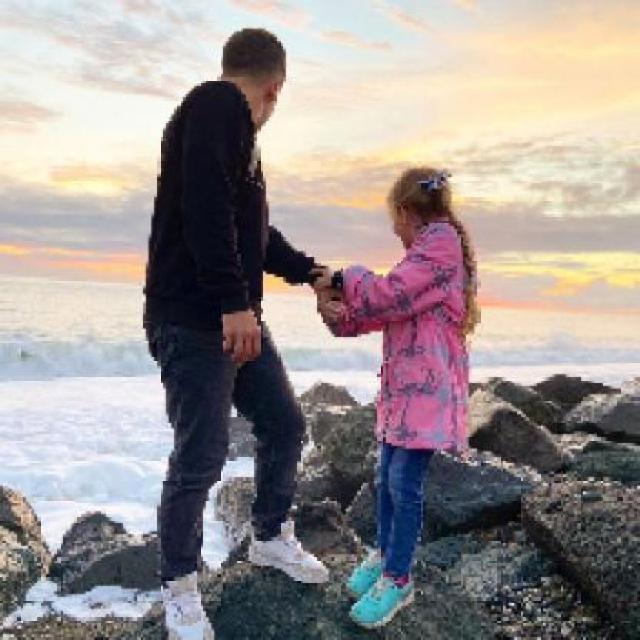child: (311, 168, 480, 632)
